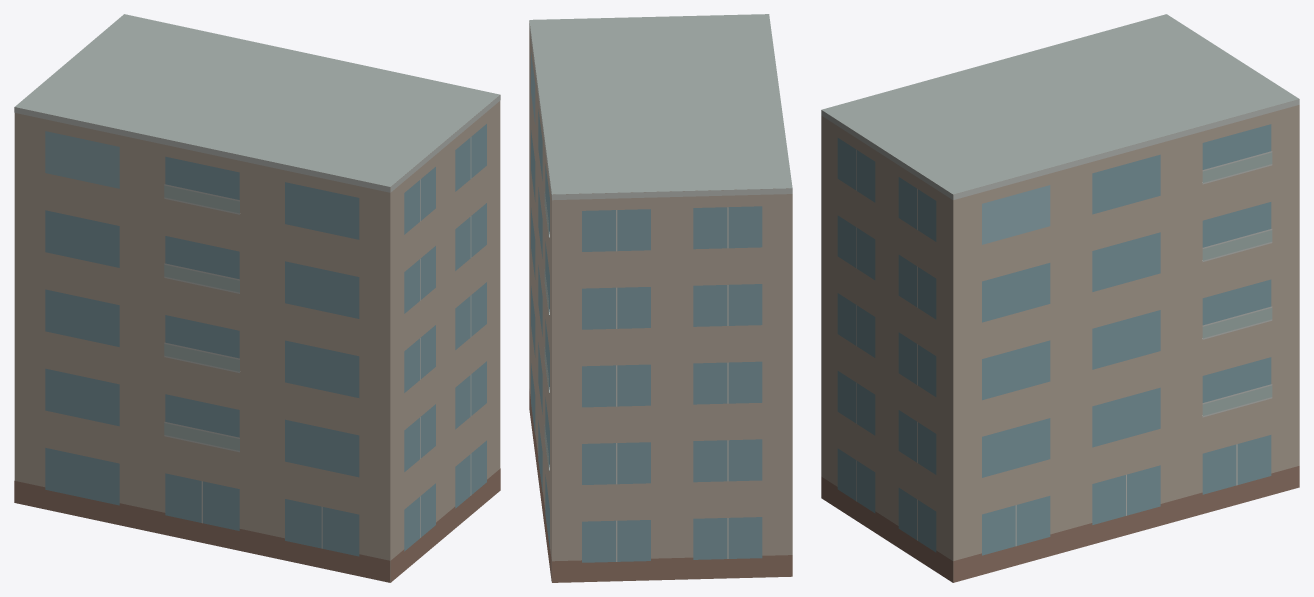
File: survey-upis-32793377.glb
The picture shows the model from 3 angles, left to right: view 1: azimuth 30°, elevation 25°; view 2: azimuth 150°, elevation 25°; view 3: azimuth 270°, elevation 25°; orthographic projection.
Visible parts, largest first — view 1: survey-upis-32793377.tmp; view 2: survey-upis-32793377.tmp; view 3: survey-upis-32793377.tmp.
Part boxes in pixels (x1,y1,x2,y2): survey-upis-32793377.tmp: (14,14,500,582); survey-upis-32793377.tmp: (529,14,792,582); survey-upis-32793377.tmp: (821,14,1299,582).
Size of the model in its own units: 16.56 by 16.6 by 18.54.
